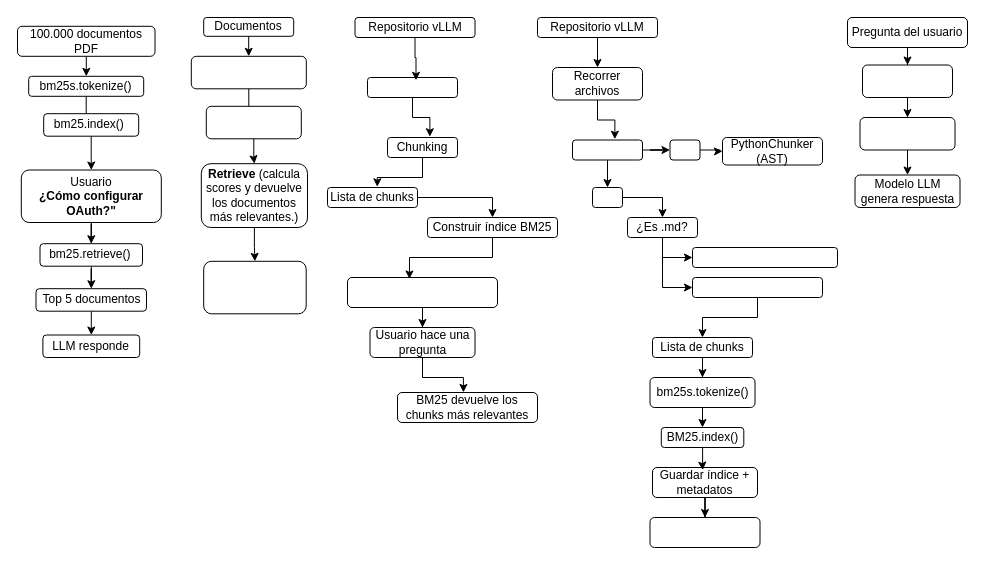
Some shapes in this 985 by 565 pixel diagram are drawn without their labels. The shapes that lost their labels are listed below. From the top down, each one's centre as x and y in pixels, then its label:
At (248,72): "Tokenize (convertir texto en tokens)".
At (412,87): "Leer archivos".
At (907,81): "Okapi BM25".
At (253,122): "Index (crear índice BM25)".
At (907,133): "Documentos más relevantes".
At (607,149): "¿Es .py?".
At (684,149): "Si".
At (607,197): "No".
At (765,257): "Si -> MarkdownChunker".
At (254,287): "Resultados ordenados por score".
At (422,292): "Guardar índice en disco Más tarde...".
At (757,287): "No -> Chunker básico".
At (704,532): "Listo para realizar búsquedas".
